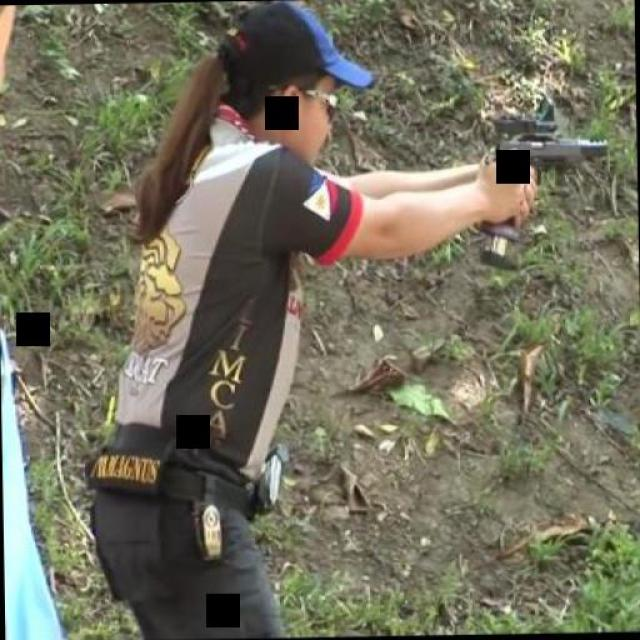gun: (468, 116, 608, 266)
